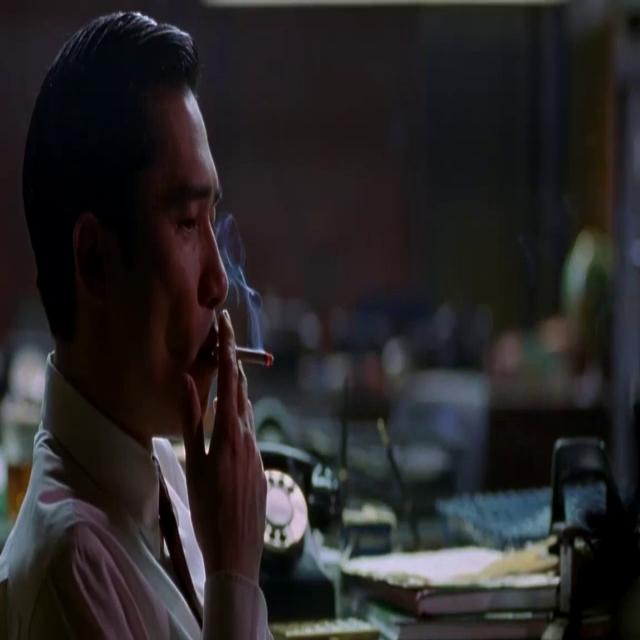Smooking: (237, 331, 278, 372)
